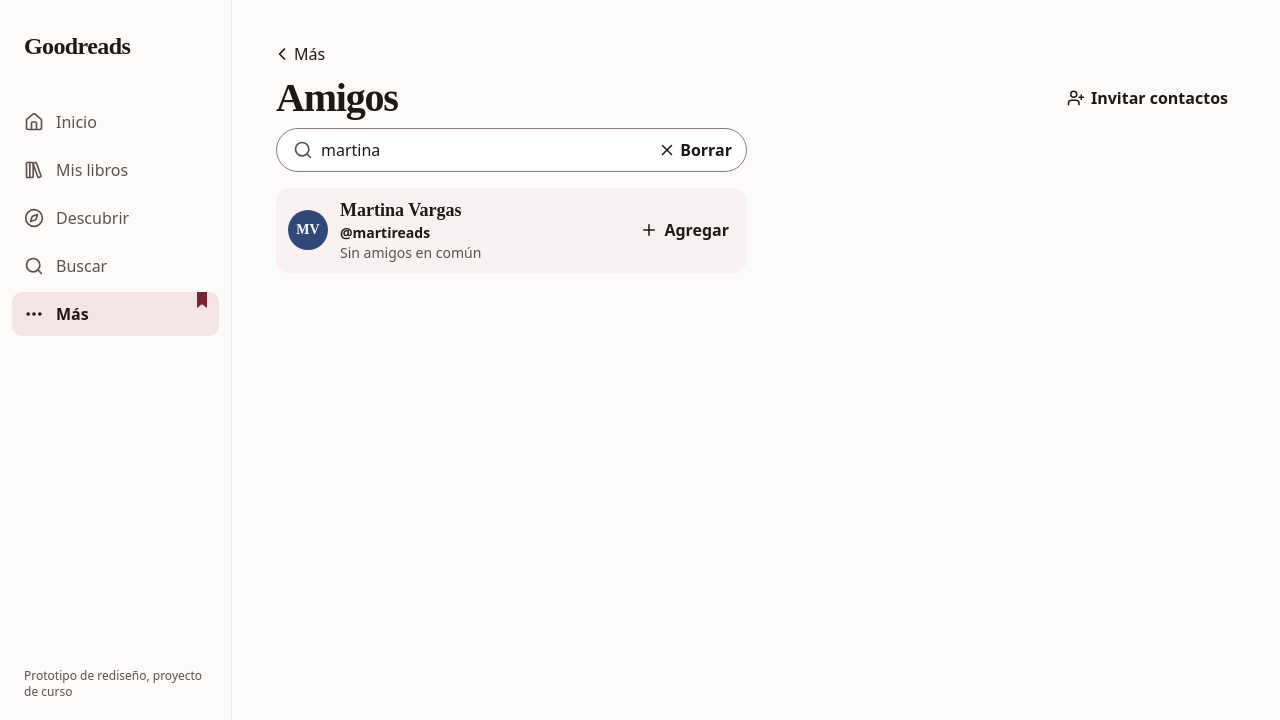
Test case: FriendsPage search › clears the URL with Borrar
Click the button with aria-label "Borrar búsqueda" at (695, 150), box 648,133 -> 742,167
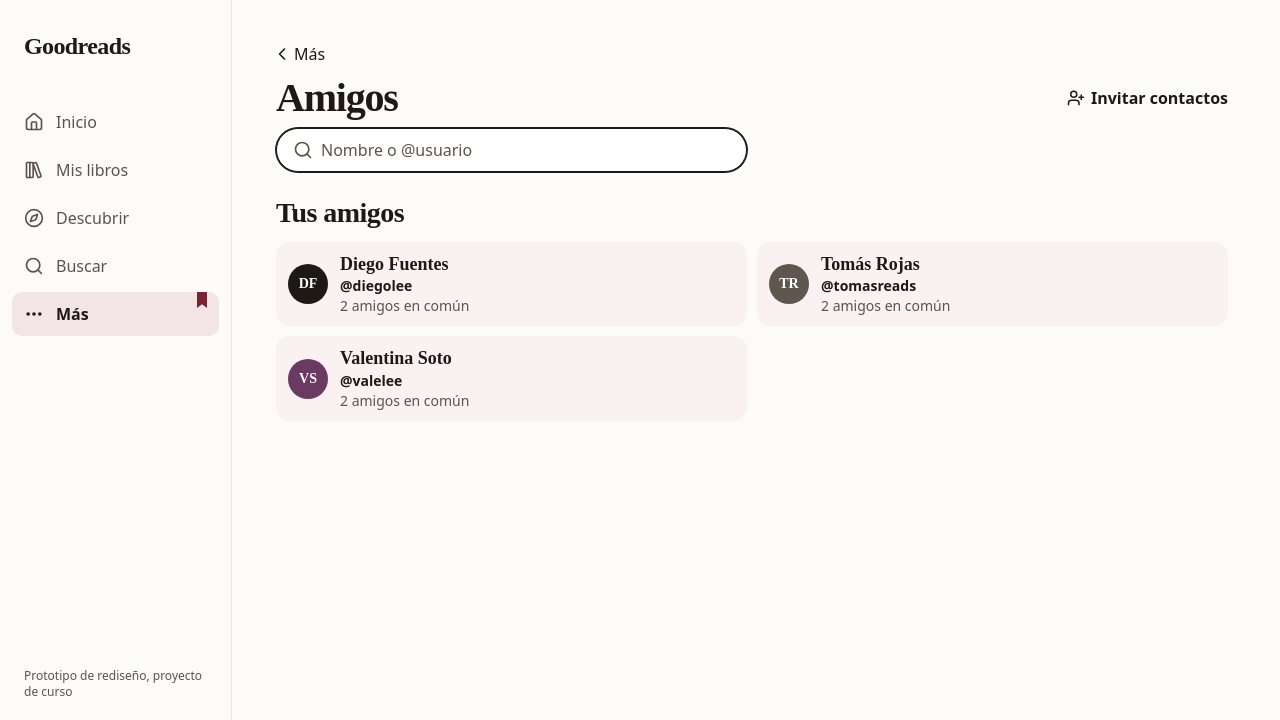
Expected: the heading "Tus amigos" is shown, 276,197 -> 404,228
